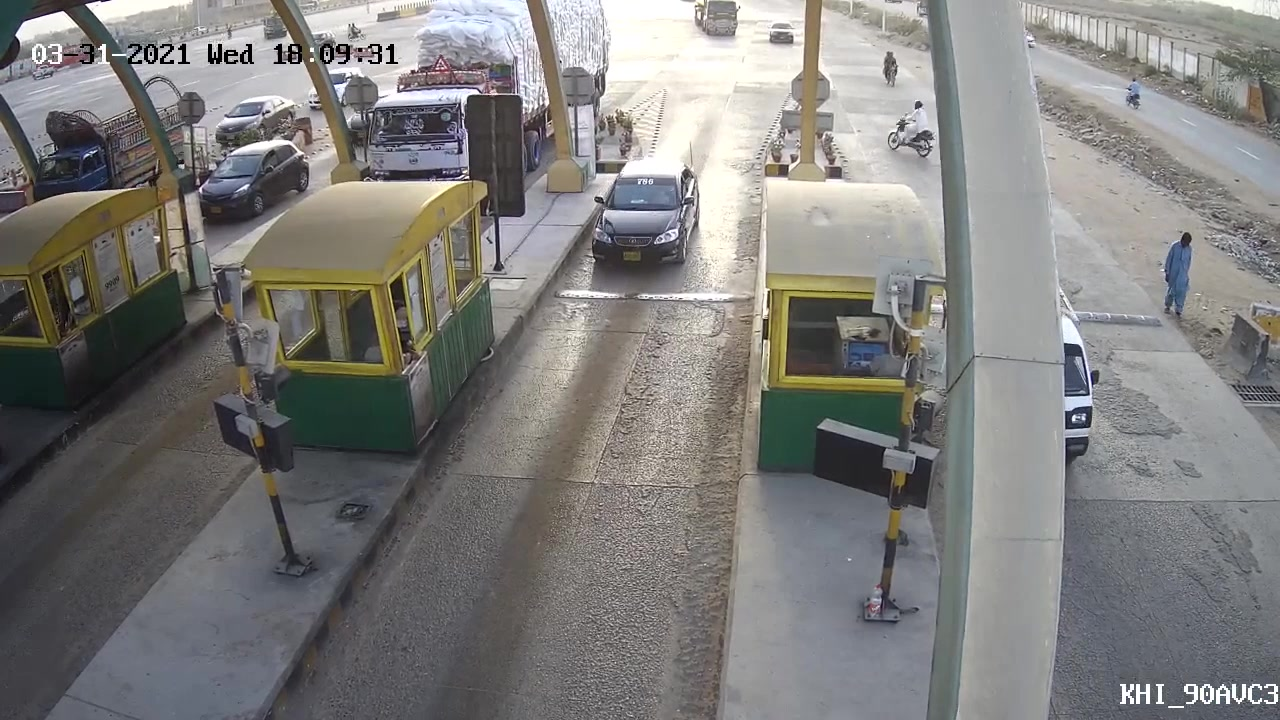F1: (581, 148, 714, 280)
